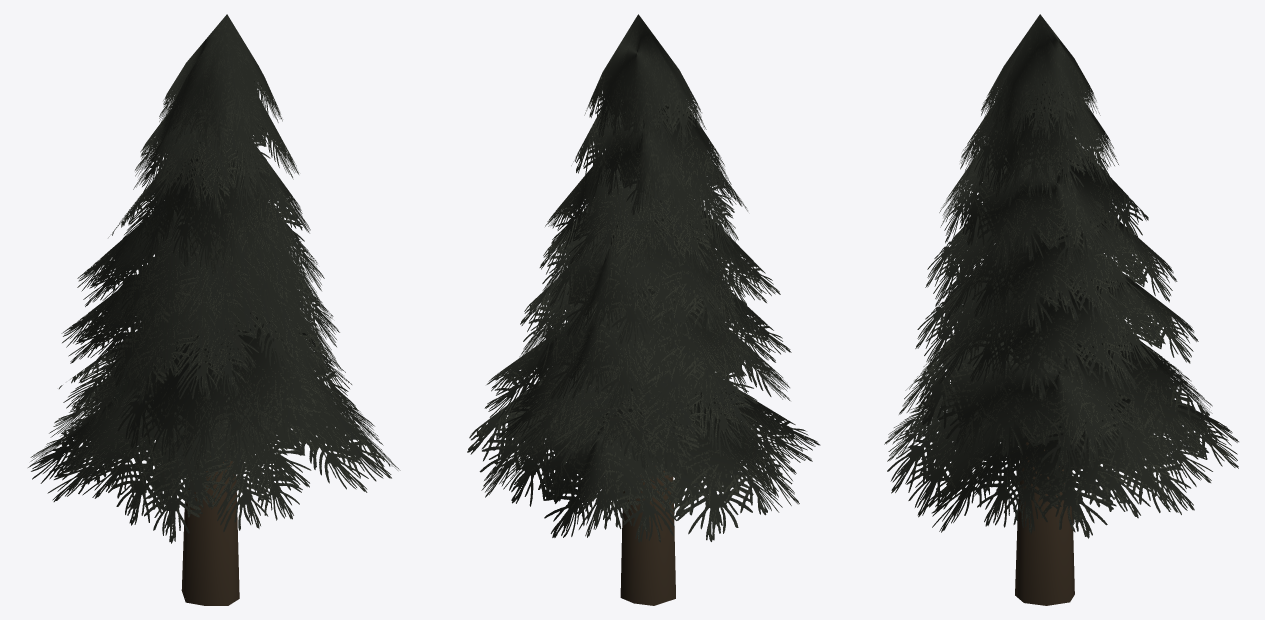
File: Pine_4.fbx
3 views of the same model, side by side, from view 1: azimuth 30°, elevation 25°; view 2: azimuth 150°, elevation 25°; view 3: azimuth 270°, elevation 25° (orthographic). The views are drawn at different scales.
Visible parts, largest first — view 1: Pine_4; view 2: Pine_4; view 3: Pine_4.
Part boxes in pixels (x1=…): Pine_4: x1=28, y1=14, x2=400, y2=605; Pine_4: x1=467, y1=14, x2=820, y2=605; Pine_4: x1=884, y1=14, x2=1238, y2=605.
Bounding box in the file's own units: 5.31 × 8.44 × 5.09.
